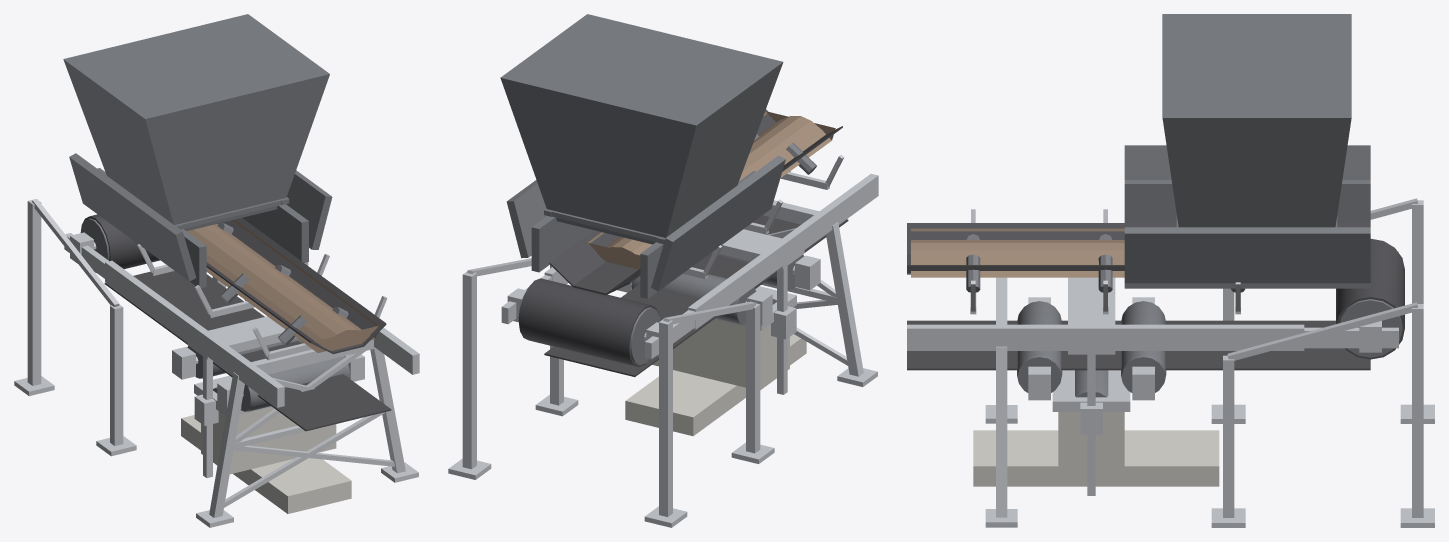
Rendered from ore-processing-and-haulage-plant-conveyor-tail-station-aef06d79.glb.
3 views of the same model, side by side, from view 1: azimuth 30°, elevation 25°; view 2: azimuth 150°, elevation 25°; view 3: azimuth 270°, elevation 25° (orthographic). The views are drawn at different scales.
Visible parts, largest first — view 1: conveyor-tail-station, counterweight; view 2: conveyor-tail-station, counterweight; view 3: conveyor-tail-station, counterweight (×2).
Boxes of the visible parts, box(x1,y1,x2,y2) form: conveyor-tail-station: box(14, 14, 419, 527); counterweight: box(201, 407, 336, 474); conveyor-tail-station: box(448, 14, 878, 527); counterweight: box(652, 319, 789, 389); conveyor-tail-station: box(907, 14, 1434, 527); counterweight (×2): box(1052, 370, 1130, 478).
Size of the model in its own units: 2.96 by 4.7 by 5.58.
